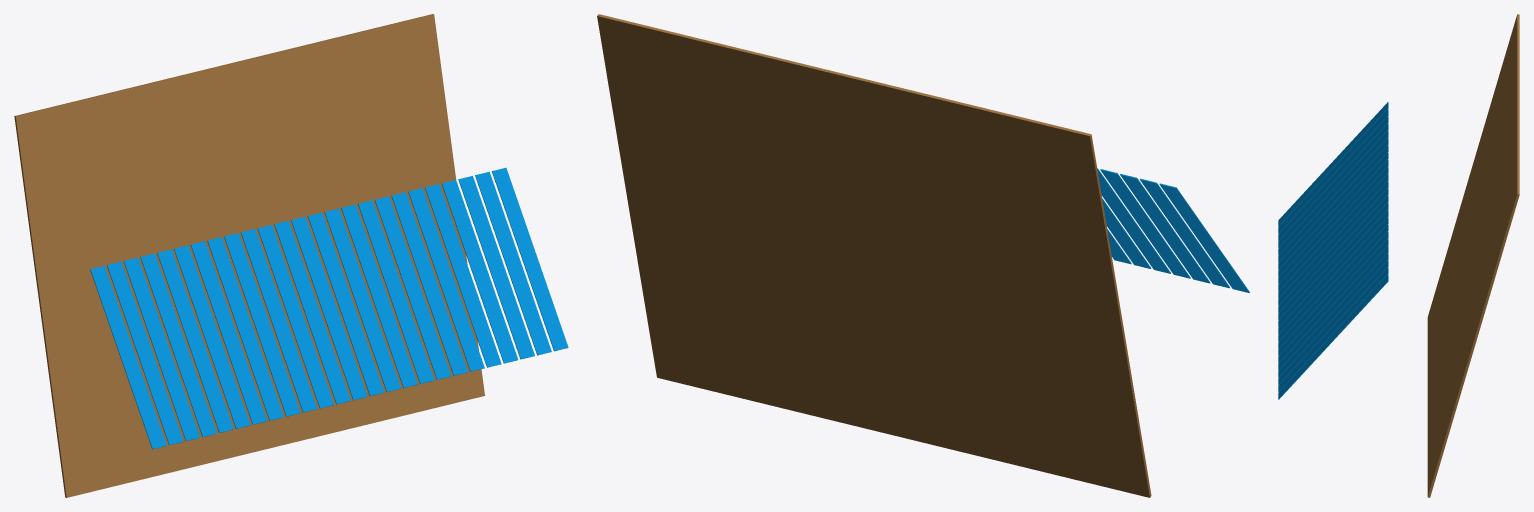
The picture shows the model from 3 angles, left to right: view 1: azimuth 30°, elevation 25°; view 2: azimuth 150°, elevation 25°; view 3: azimuth 270°, elevation 25°; orthographic projection. The views are drawn at different scales.
Visible parts, largest first — view 1: world; view 2: world; view 3: world.
Boxes of the visible parts, bbox=[...] form: world: bbox=[14, 14, 568, 497]; world: bbox=[597, 14, 1249, 497]; world: bbox=[1278, 14, 1519, 497].
Size of the model in its own units: 50 by 39.39 by 28.37.
